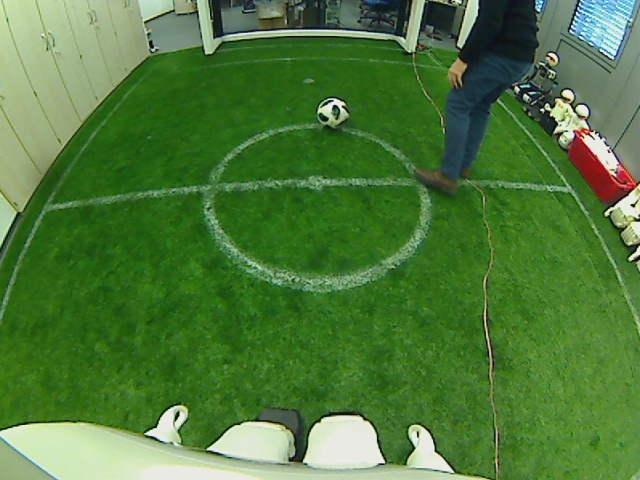ball: (315, 95, 350, 128)
